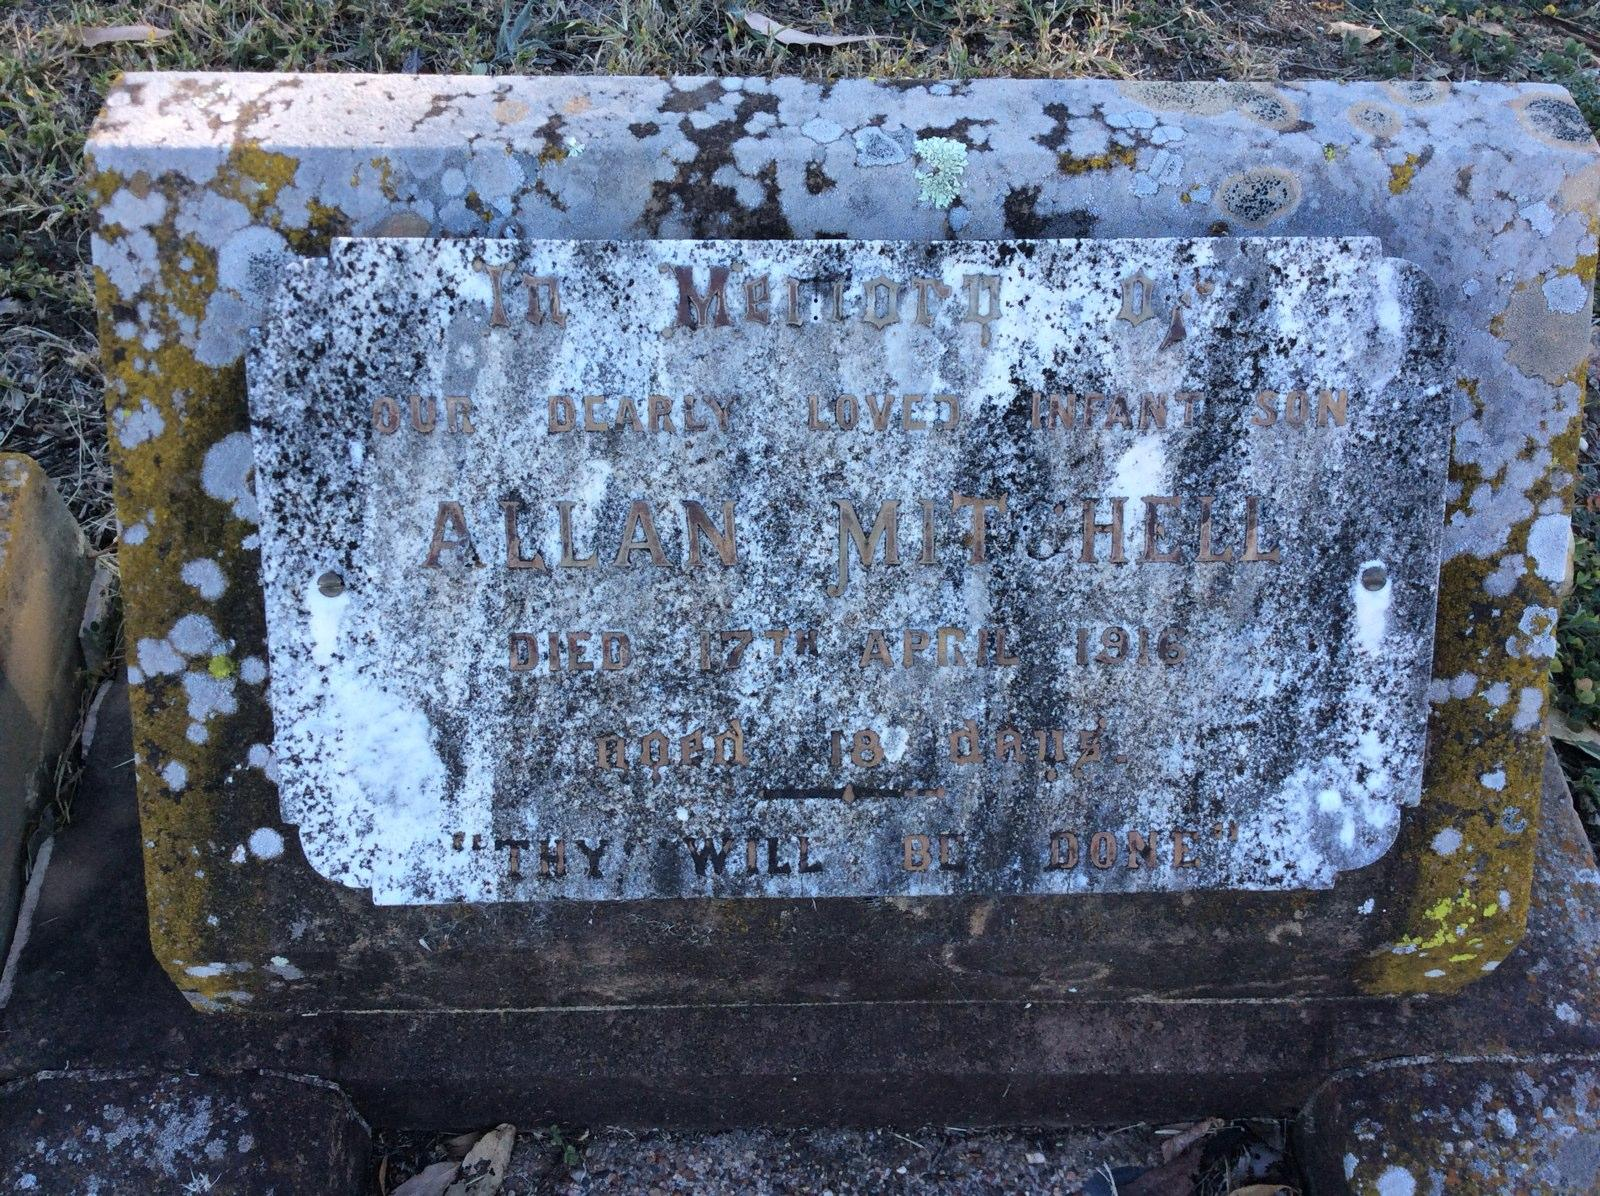upright: (62, 8, 1584, 1153)
